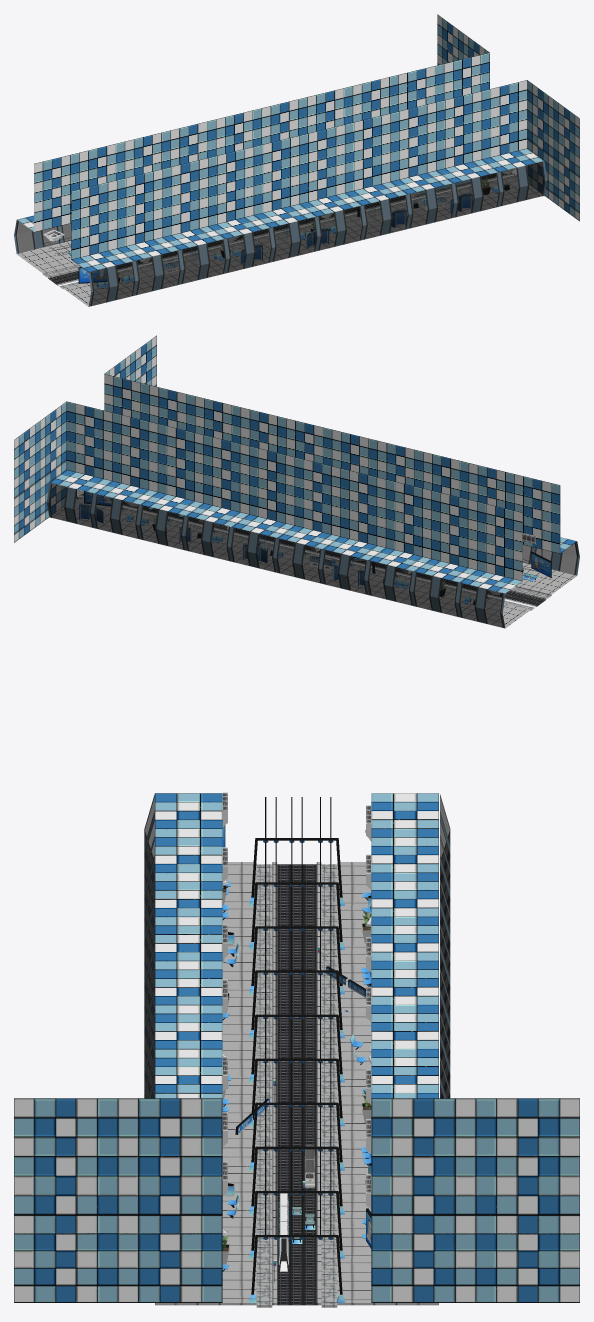
The model's file is subwaysurferstest26.glb.
3 renders of one model, top to bottom at view 1: azimuth 30°, elevation 25°; view 2: azimuth 150°, elevation 25°; view 3: azimuth 270°, elevation 25°, orthographic. The views are drawn at different scales.
Parts seen in each view (by area): view 1: tiledwall.016, tiledwall, tiledwall.005, tiledwall.018, tiledwall.019, tiledwall.024, tiledwall.006, tiledwall.017, tiledwall.003, tiledwall.023, tiledwall.025, tiledwall.001 (+35 smaller); view 2: tiledwall.013, tiledwall.021, tiledwall.025, tiledwall.009, tiledwall.012, tiledwall.022, tiledwall.020, tiledwall.027, tiledwall.007, tiledwall.026, tiledwall.024, tiledwall.008 (+36 smaller); view 3: tiledwall.014, tiledwall.008, tiledwall.002, tiledwall.001, tiledwall.010, tiledwall.004, tiledwall.015, tiledwall.011, tiledwall.017, tiledwall.018, tiledwall.019, tiledwall.020 (+40 smaller).
Boxes of the visible parts, left/top/right/bottom form: tiledwall.016: left=162, top=158, right=224, bottom=249; tiledwall: left=481, top=80, right=543, bottom=171; tiledwall.005: left=390, top=102, right=452, bottom=194; tiledwall.018: left=253, top=136, right=316, bottom=227; tiledwall.019: left=208, top=147, right=270, bottom=238; tiledwall.024: left=71, top=180, right=133, bottom=272; tiledwall.006: left=345, top=113, right=407, bottom=205; tiledwall.017: left=299, top=124, right=361, bottom=216; tiledwall.003: left=436, top=91, right=498, bottom=183; tiledwall.023: left=117, top=169, right=179, bottom=260; tiledwall.025: left=17, top=152, right=79, bottom=232; tiledwall.001: left=527, top=80, right=553, bottom=167; tiledwall.013: left=50, top=401, right=112, bottom=493; tiledwall.021: left=278, top=457, right=340, bottom=548; tiledwall.025: left=460, top=501, right=522, bottom=593; tiledwall.009: left=141, top=423, right=203, bottom=515; tiledwall.012: left=95, top=412, right=157, bottom=504; tiledwall.022: left=232, top=446, right=294, bottom=537; tiledwall.020: left=323, top=468, right=385, bottom=560; tiledwall.027: left=369, top=479, right=431, bottom=571; tiledwall.007: left=187, top=435, right=248, bottom=526; tiledwall.026: left=415, top=490, right=476, bottom=582; tiledwall.024: left=514, top=474, right=576, bottom=553; tiledwall.008: left=14, top=421, right=40, bottom=508; tiledwall.014: left=371, top=1098, right=475, bottom=1234; tiledwall.008: left=475, top=1098, right=579, bottom=1234; tiledwall.002: left=14, top=1098, right=118, bottom=1234; tiledwall.001: left=118, top=1098, right=222, bottom=1234; tiledwall.010: left=14, top=1233, right=118, bottom=1302; tiledwall.004: left=118, top=1233, right=222, bottom=1302; tiledwall.015: left=371, top=1233, right=475, bottom=1302; tiledwall.011: left=475, top=1233, right=579, bottom=1302; tiledwall.017: left=155, top=1013, right=222, bottom=1057; tiledwall.018: left=155, top=969, right=222, bottom=1013; tiledwall.019: left=155, top=925, right=222, bottom=969; tiledwall.020: left=371, top=925, right=438, bottom=969.
Bounding box in the file's own units: 403 × 88.5 × 217.
Materials: 8 (8 with a texture image).
